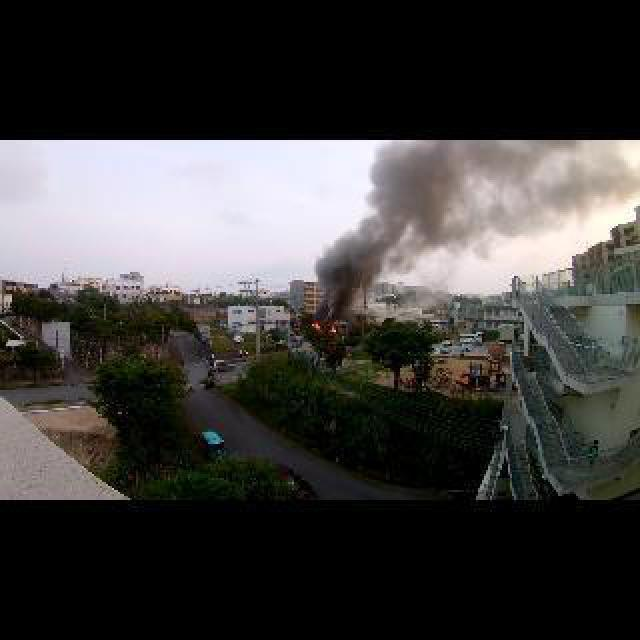Fire: (312, 322, 322, 330), (330, 326, 336, 332)
Smoke: (368, 139, 634, 248), (305, 224, 428, 312)
